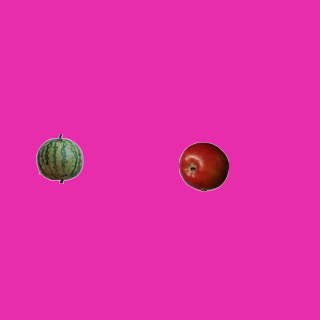Apple Braeburn: (178, 141, 228, 191)
Watermelon: (34, 133, 84, 183)
